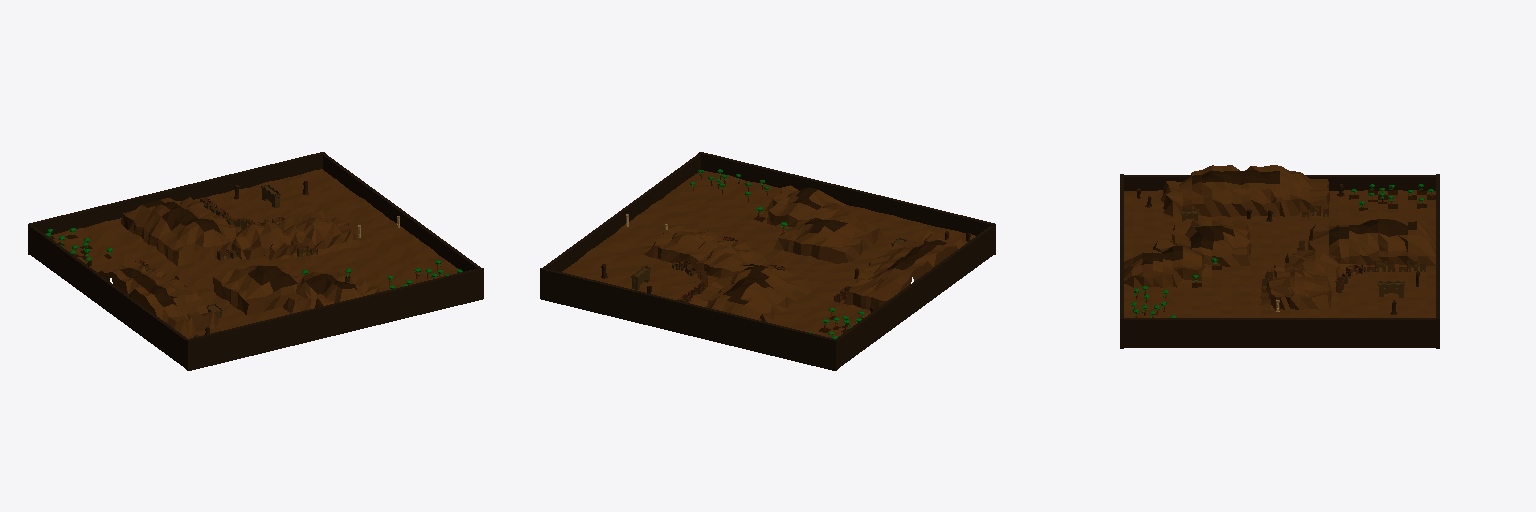
Rendered from Land_of_Edom.obj.
3 renders of one model, left to right at view 1: azimuth 30°, elevation 25°; view 2: azimuth 150°, elevation 25°; view 3: azimuth 270°, elevation 25°, orthographic.
Parts seen in each view (by area): view 1: Plane_Plane.001_Material.000, Cube_145.001_Cube.003_Material_000, Cube_145.003_Cube.005_Material_000, Cube_145_Cube.010_Material_000, Plane_Plane.001_mountain.001, Cube_145.002_Cube.004_Material_000; view 2: Plane_Plane.001_Material.000, Cube_145_Cube.010_Material_000, Cube_145.003_Cube.005_Material_000, Cube_145.001_Cube.003_Material_000, Cube_145.002_Cube.004_Material_000, Plane_Plane.001_mountain.001; view 3: Plane_Plane.001_Material.000, Cube_145.002_Cube.004_Material_000, Plane_Plane.001_mountain.001, Cube_145.003_Cube.005_Material_000, Cube_145.001_Cube.003_Material_000, Cube_145_Cube.010_Material_000.
Boxes of the visible parts, x1=… form: Plane_Plane.001_Material.000: x1=51, y1=169, x2=457, y2=338; Cube_145.001_Cube.003_Material_000: x1=186, y1=268, x2=483, y2=370; Cube_145.003_Cube.005_Material_000: x1=28, y1=225, x2=187, y2=369; Cube_145_Cube.010_Material_000: x1=28, y1=152, x2=325, y2=254; Plane_Plane.001_mountain.001: x1=120, y1=200, x2=356, y2=306; Cube_145.002_Cube.004_Material_000: x1=323, y1=154, x2=480, y2=271; Plane_Plane.001_Material.000: x1=562, y1=171, x2=975, y2=337; Cube_145_Cube.010_Material_000: x1=540, y1=268, x2=837, y2=370; Cube_145.003_Cube.005_Material_000: x1=836, y1=225, x2=995, y2=369; Cube_145.001_Cube.003_Material_000: x1=698, y1=152, x2=995, y2=254; Cube_145.002_Cube.004_Material_000: x1=543, y1=154, x2=700, y2=271; Plane_Plane.001_mountain.001: x1=723, y1=187, x2=946, y2=321; Plane_Plane.001_Material.000: x1=1124, y1=165, x2=1435, y2=317; Cube_145.002_Cube.004_Material_000: x1=1121, y1=318, x2=1438, y2=347; Plane_Plane.001_mountain.001: x1=1141, y1=170, x2=1416, y2=264; Cube_145.003_Cube.005_Material_000: x1=1124, y1=175, x2=1435, y2=190; Cube_145.001_Cube.003_Material_000: x1=1120, y1=174, x2=1123, y2=348; Cube_145_Cube.010_Material_000: x1=1436, y1=174, x2=1439, y2=348.
Bounding box in the file's own units: 443 × 58.93 × 415.